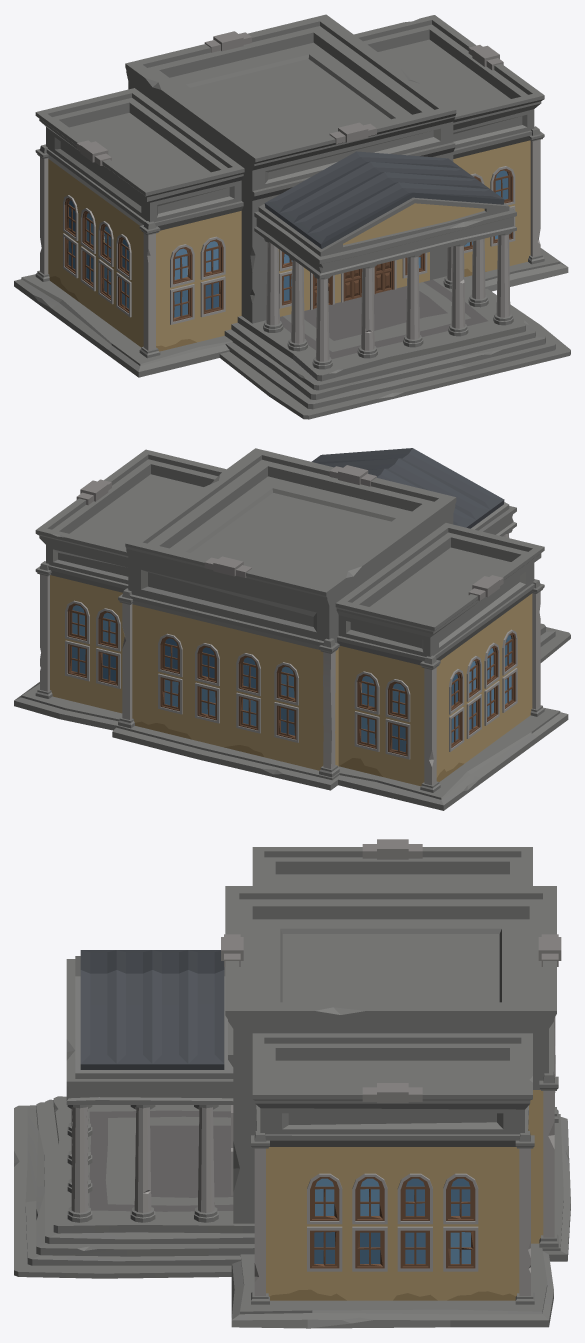
The model's file is SM_Bld_CityHall.glb.
The picture shows the model from 3 angles, top to bottom: view 1: azimuth 30°, elevation 25°; view 2: azimuth 150°, elevation 25°; view 3: azimuth 270°, elevation 25°; orthographic projection. The views are drawn at different scales.
Visible parts, largest first — view 1: SM_Bld_CityHall_01; view 2: SM_Bld_CityHall_01; view 3: SM_Bld_CityHall_01.
Boxes of the visible parts, x1,y1,x2,y2 form: SM_Bld_CityHall_01: (14,14,570,419); SM_Bld_CityHall_01: (14,448,570,810); SM_Bld_CityHall_01: (14,839,570,1328).
Bounding box in the file's own units: 20.09 × 8.75 × 17.63.
1 material, 1 textured.
